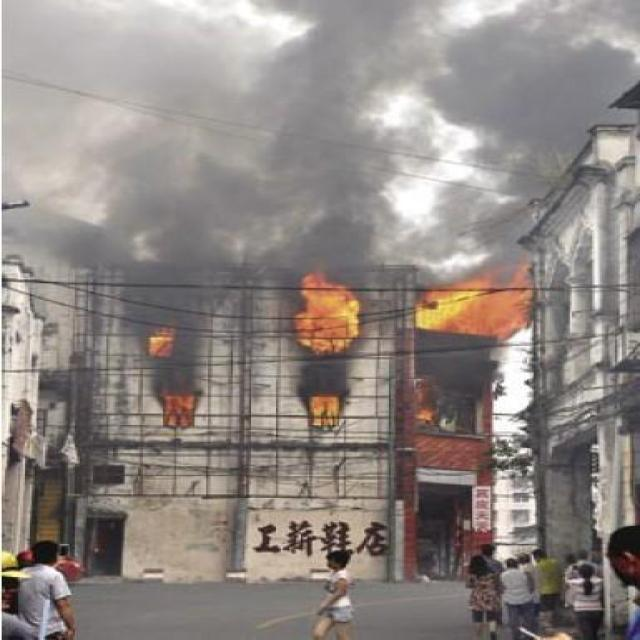fire: (409, 268, 530, 334), (291, 268, 362, 351), (154, 385, 200, 427), (301, 389, 342, 426), (143, 325, 175, 356), (409, 400, 442, 426)
smoke: (0, 0, 636, 387)
